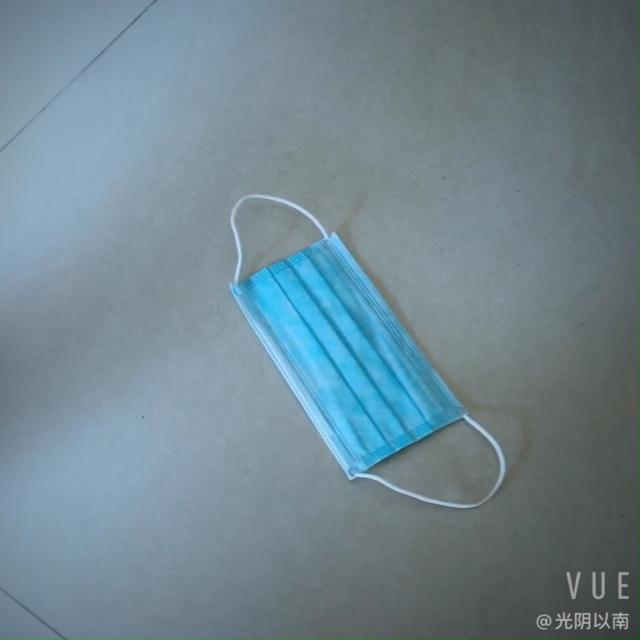non-organic waste: (222, 227, 465, 478)
